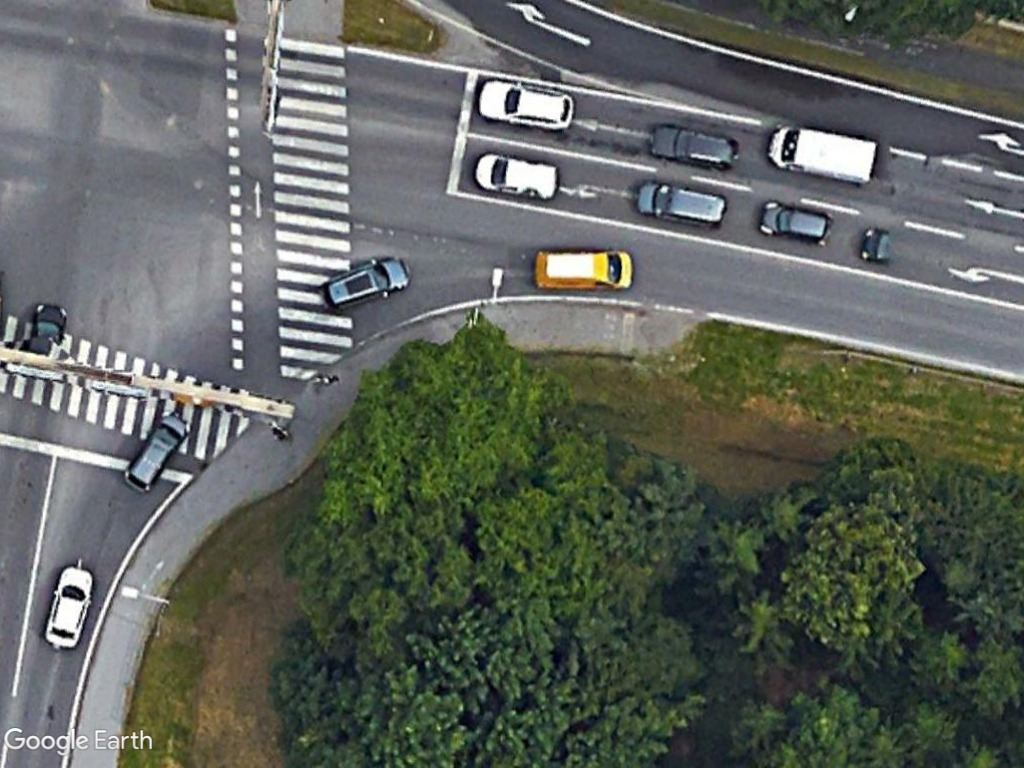car: (471, 73, 581, 135), (319, 249, 414, 319), (121, 410, 195, 494), (644, 119, 747, 173), (469, 147, 566, 204), (40, 559, 97, 655), (753, 197, 841, 249)
van: (761, 118, 885, 188), (631, 176, 733, 232), (525, 245, 638, 293)
